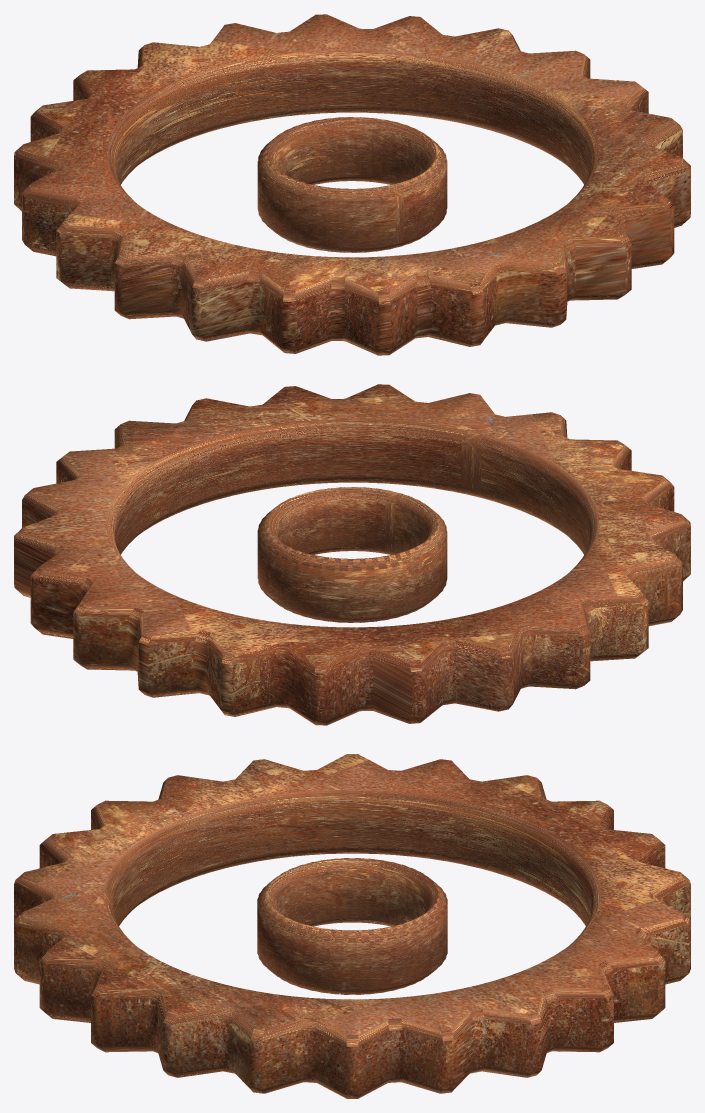
3 renders of one model, top to bottom at view 1: azimuth 30°, elevation 25°; view 2: azimuth 150°, elevation 25°; view 3: azimuth 270°, elevation 25°, orthographic.
Parts seen in each view (by area): view 1: obj2; view 2: obj2; view 3: obj2.
Part boxes in pixels (x1,y1,x2,y2): obj2: (14, 14, 690, 355); obj2: (14, 384, 690, 725); obj2: (14, 754, 690, 1098).
Bounding box in the file's own units: 228 × 23.54 × 226.
